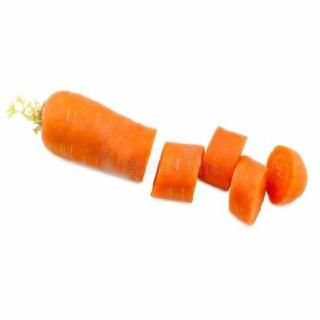carrot: (8, 82, 160, 188)
